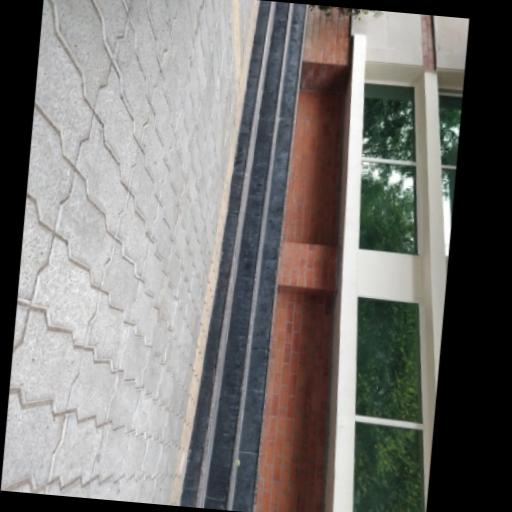stairs: (180, 1, 306, 511)
